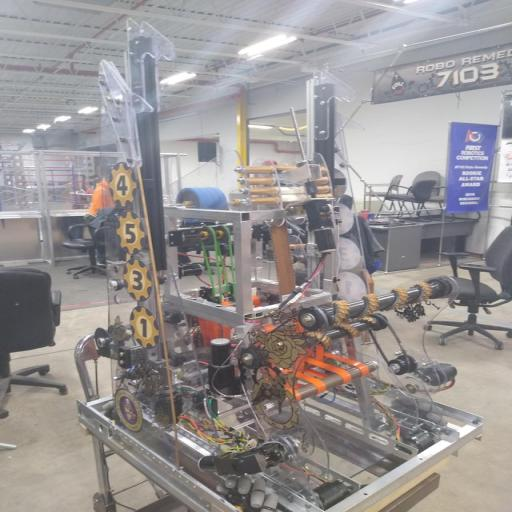robot: (70, 16, 482, 507)
